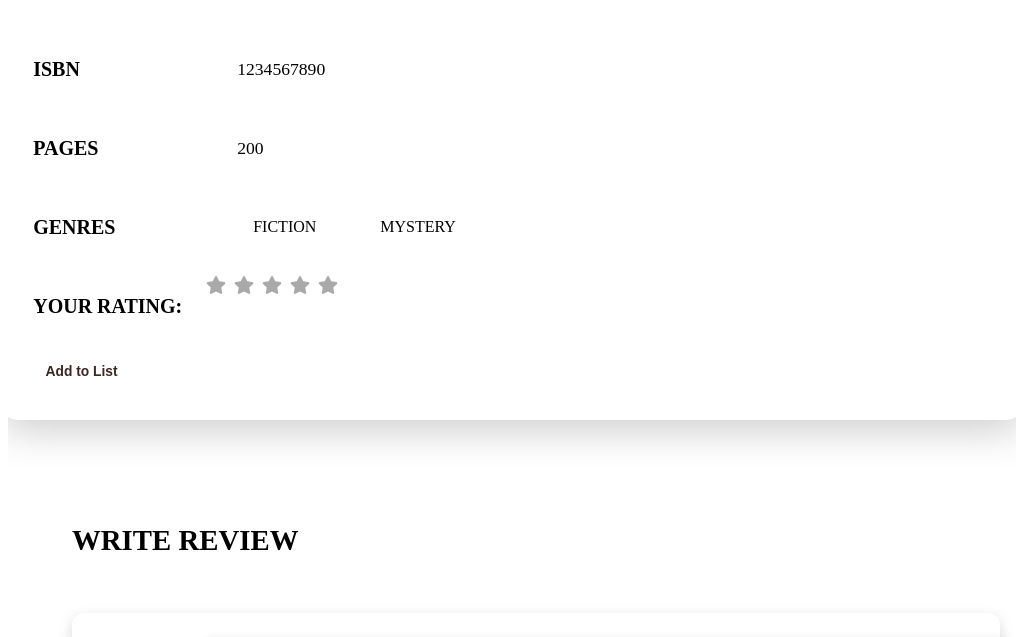
Test: Book Component › should show notification when user tries to add book without logging in
The width and height of the screenshot is (1024, 637).
(page scrolled)
Click the button "Add to List".
click(82, 371)  # box [33, 354, 130, 388]
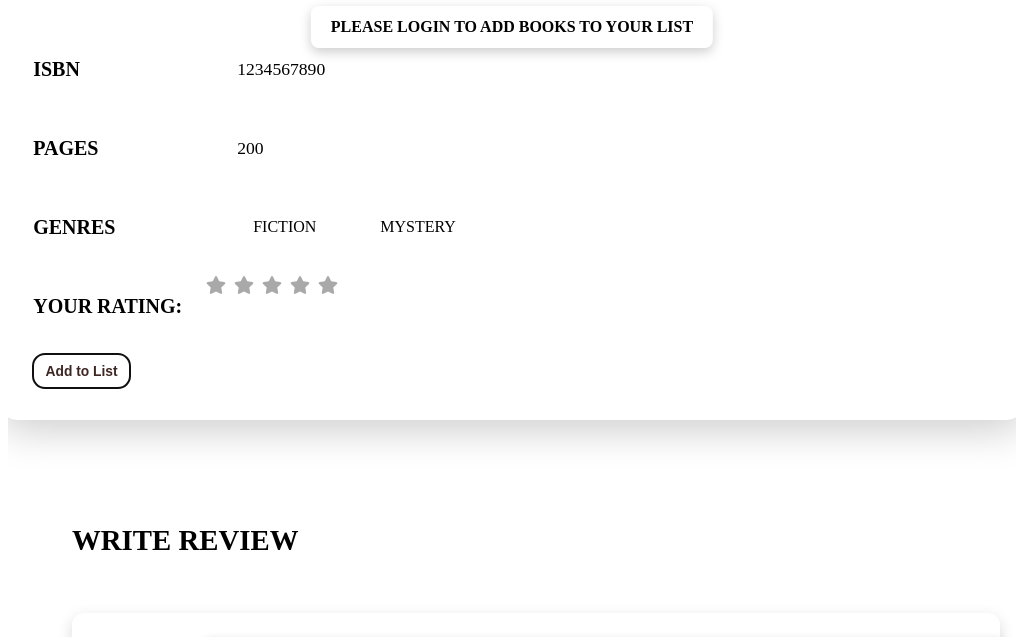
Expected: the text "Please login to add books to your list" is shown, [311, 6, 713, 48]
